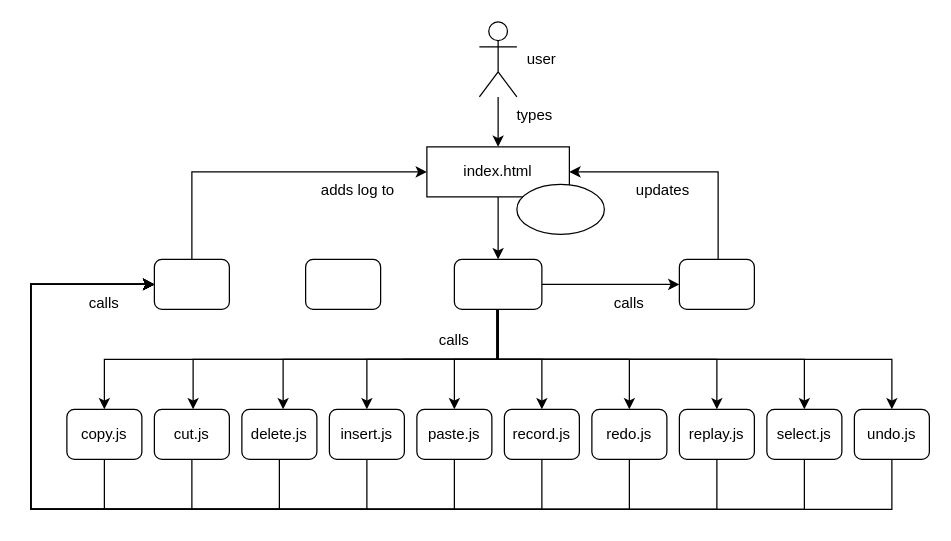
This 951x541 diagram has some shape labels left out. Each missing label, with the box of its shape:
const.js: (304, 258, 381, 309)
engine.js: (678, 258, 754, 309)
listeners.js: (453, 258, 542, 309)
log.js: (153, 258, 229, 309)
styles.css: (516, 183, 604, 234)
